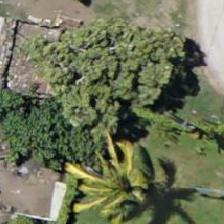coconut_tree: (75, 140, 165, 223)
